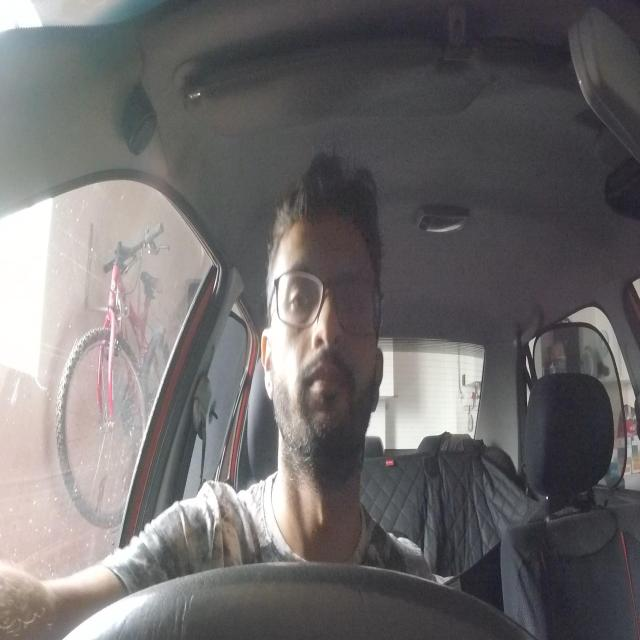open: (275, 264, 320, 332)
